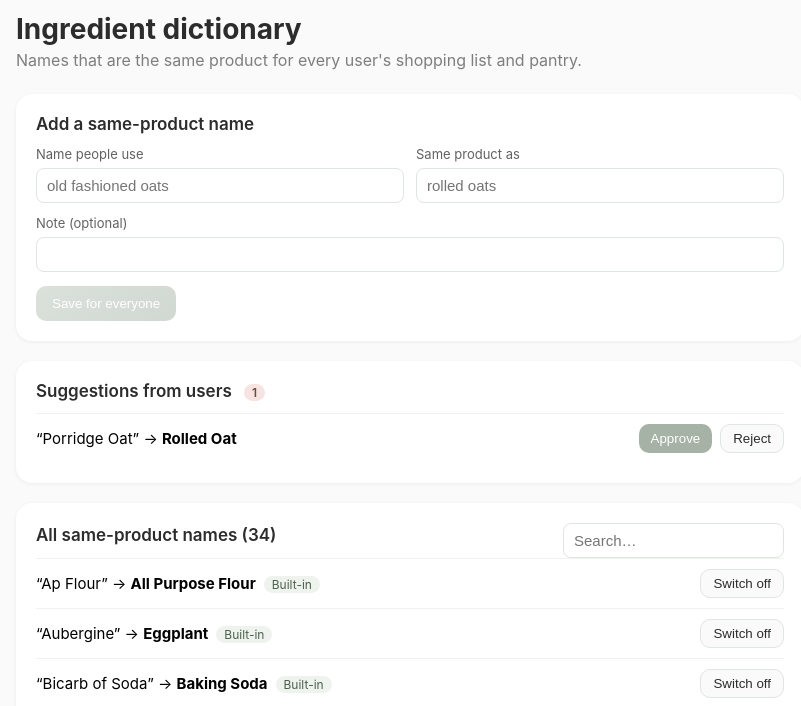
IngredientDictionaryPage › suggestions can be approved or rejected
The width and height of the screenshot is (801, 706).
Click the button "Approve": [675, 438] box [639, 424, 712, 453]
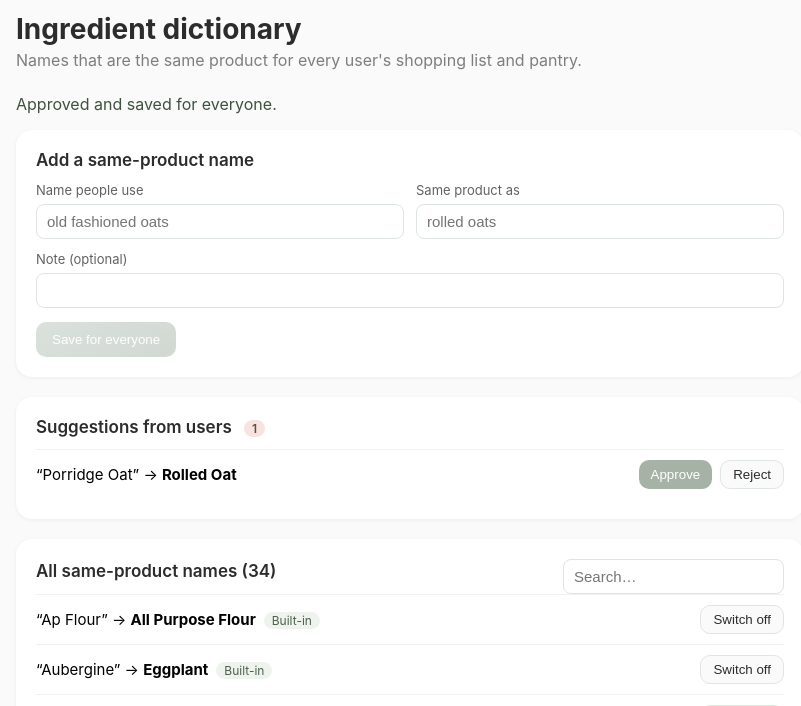
Expected: the message reads "Approved and saved for everyone.", [16, 94, 277, 114]
